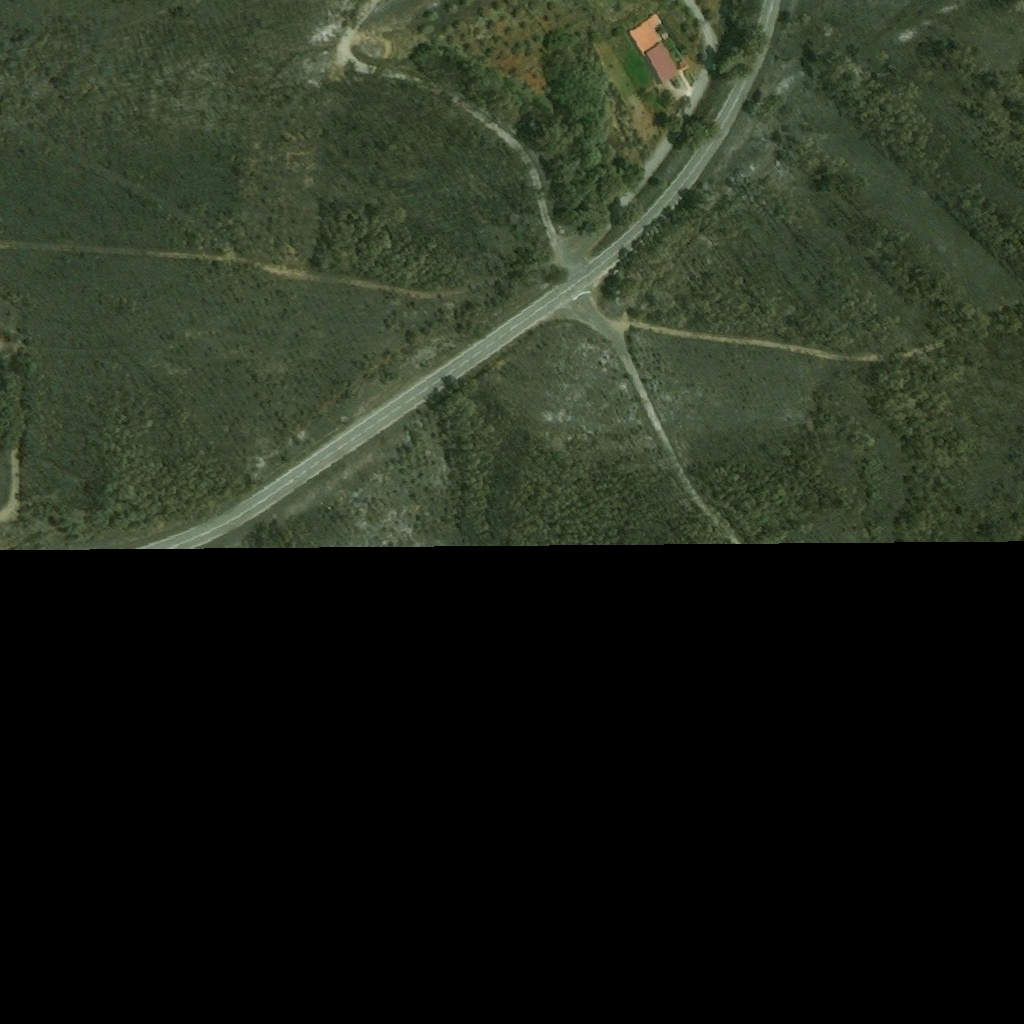0 no-damage: (627, 14, 679, 87)
